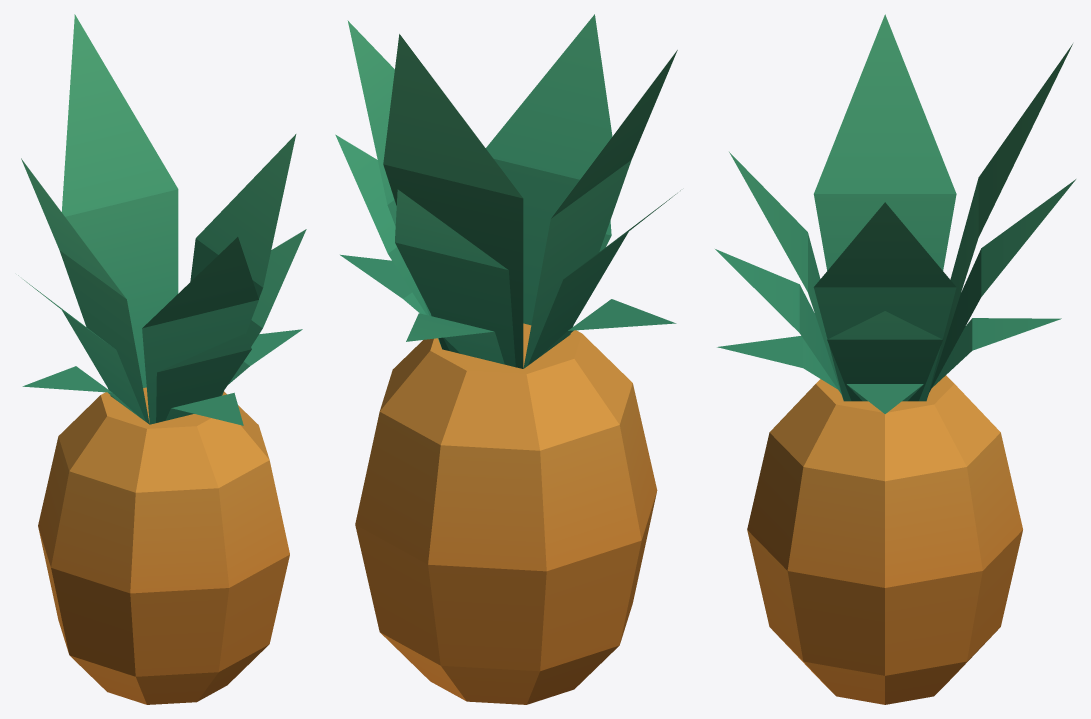
File: pineapple.glb
The picture shows the model from 3 angles, left to right: view 1: azimuth 30°, elevation 25°; view 2: azimuth 150°, elevation 25°; view 3: azimuth 270°, elevation 25°; orthographic projection. The views are drawn at different scales.
Visible parts, largest first — view 1: geometry_0; view 2: geometry_0; view 3: geometry_0.
Part boxes in pixels (box(x1,y1,x2,y2)): geometry_0: box(18, 14, 306, 704); geometry_0: box(335, 14, 680, 704); geometry_0: box(715, 14, 1075, 704).
Bounding box in the file's own units: 0.4244 × 0.83 × 0.4308.
